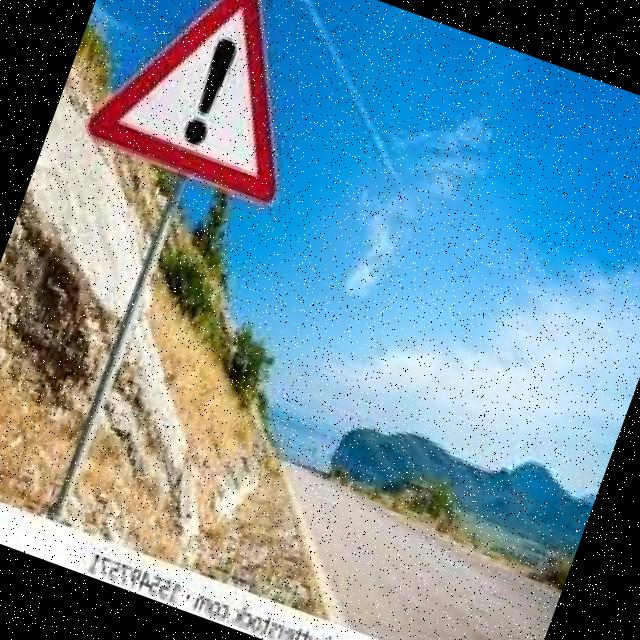warning: (84, 0, 346, 211)
